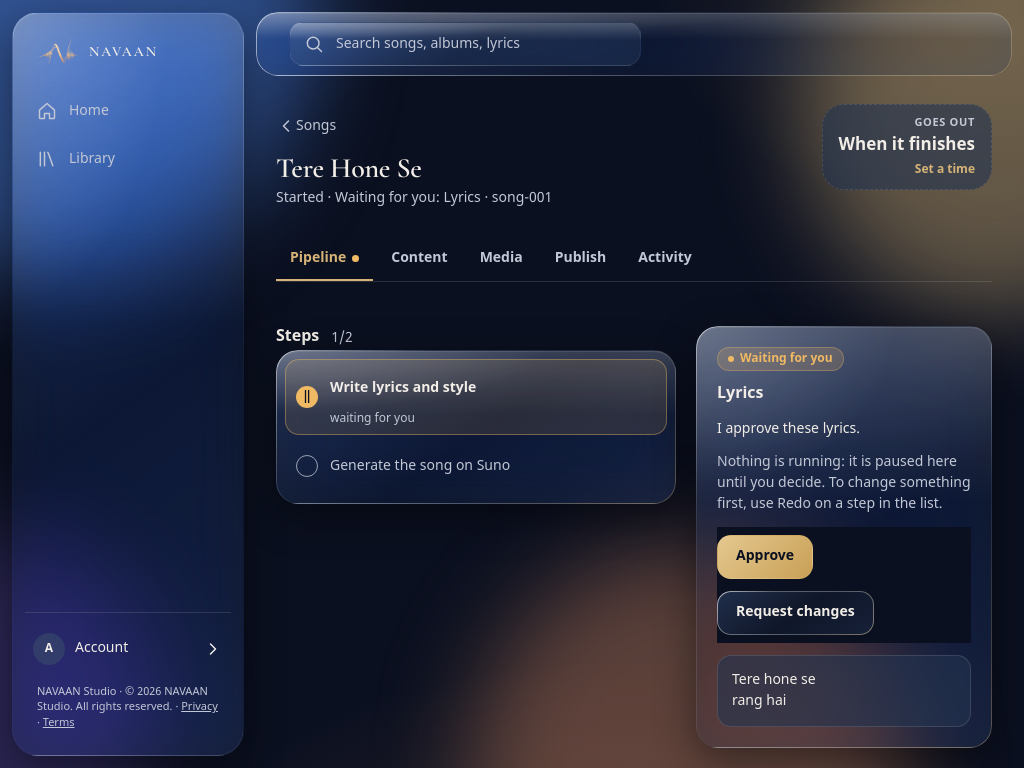
Test: Studio > song › shows the gate with what is approved, and Approve posts and reloads
Expected: the heading "Lyrics" is shown, [717,383,764,407]
Expected: the text named "lyrics.txt" shows "Tere hone se", [732,671,816,711]
Click the button "Approve": (765, 557) [717,535,813,579]
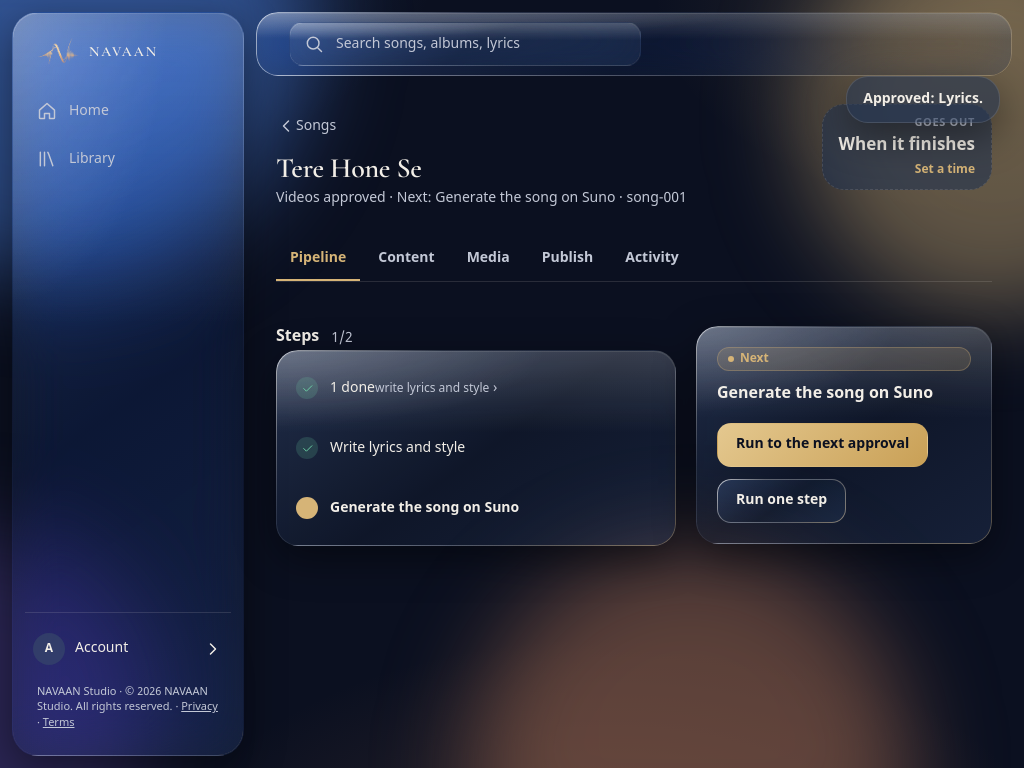
Expected: the heading "Generate the song on Suno" is shown, [717,383,971,407]
Click the tab "Activity": (652, 259) [611,237,693,281]
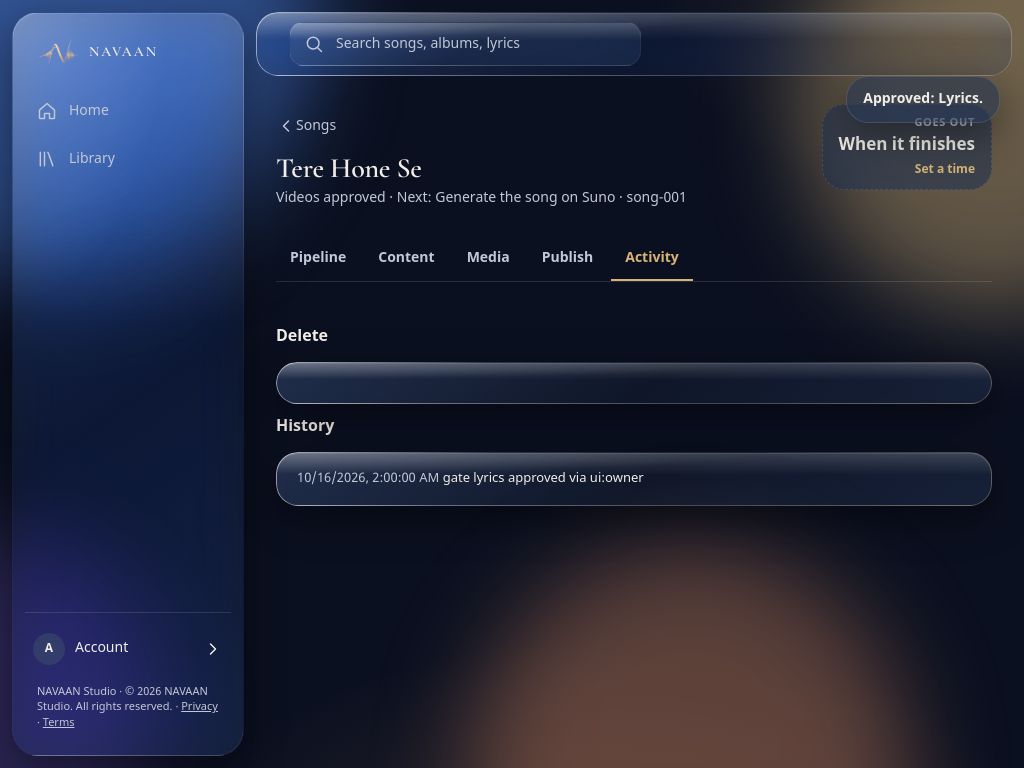
Expected: the list item "10/16/2026, 2:00:00 AM gate lyrics approved via ui:owner" is shown, [297,470,644,487]
